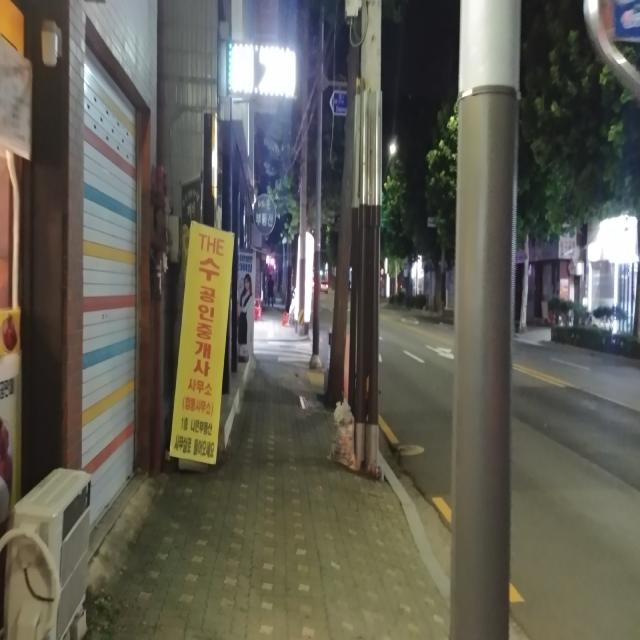횡단보도: (253, 338, 313, 363)
